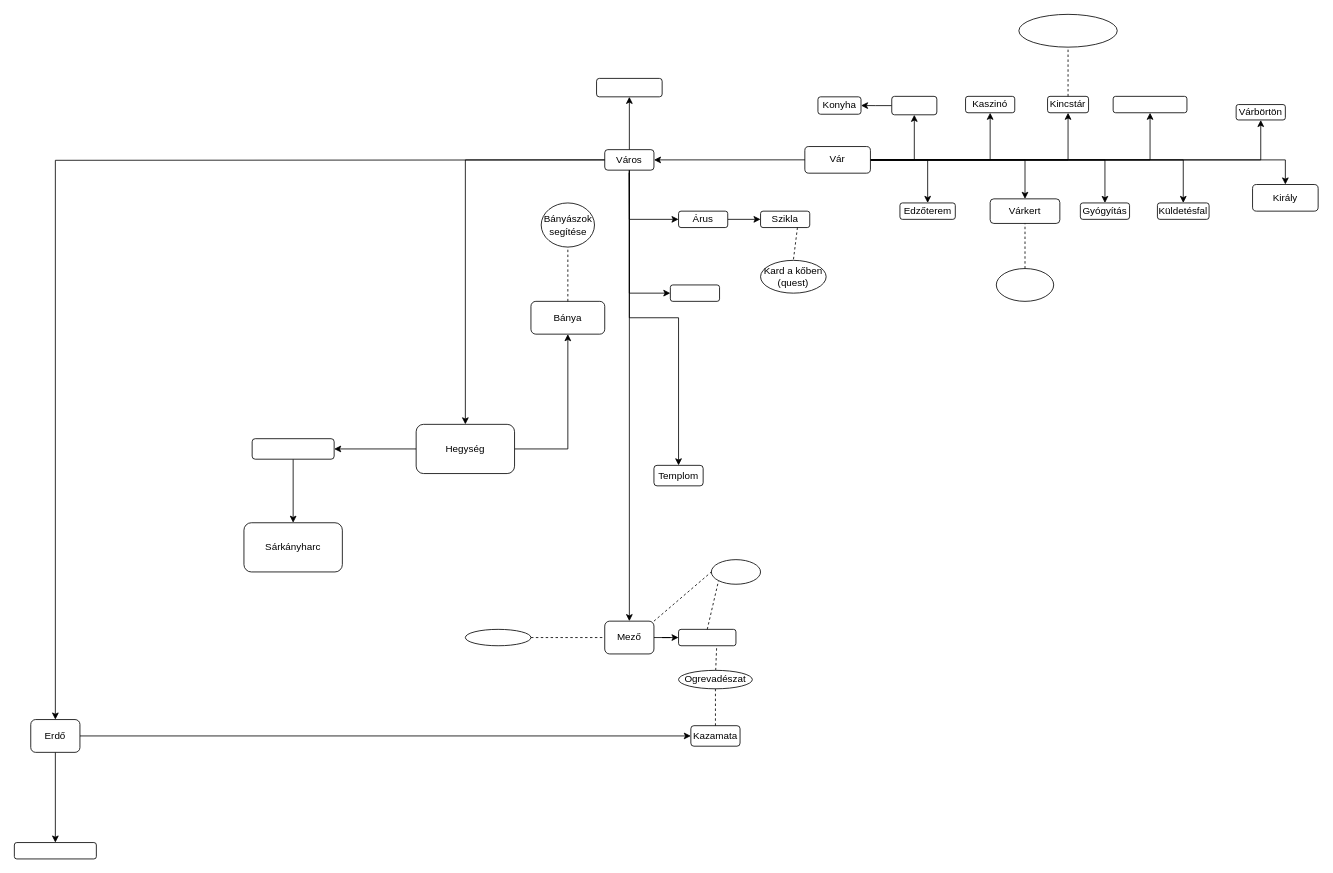
The diagram is 1333 pixels wide and 873 high, and some of its shapes have lost their labels. The centre of each missing label's shape, as x and y in pixels:
Figyelmeztetés: the point at 292,448
Gyűjtögetés: the point at 498,637
Kereskedőház: the point at 1149,104
Kincstárrablás (optional): the point at 1067,30
Koldus: the point at 695,292
Lovagi torna: the point at 1024,284
Lovarda: the point at 629,87
Szállás: the point at 914,105
Vadászat: the point at 736,571
Vadászház: the point at 707,637
Város elhagyása: the point at 55,850
